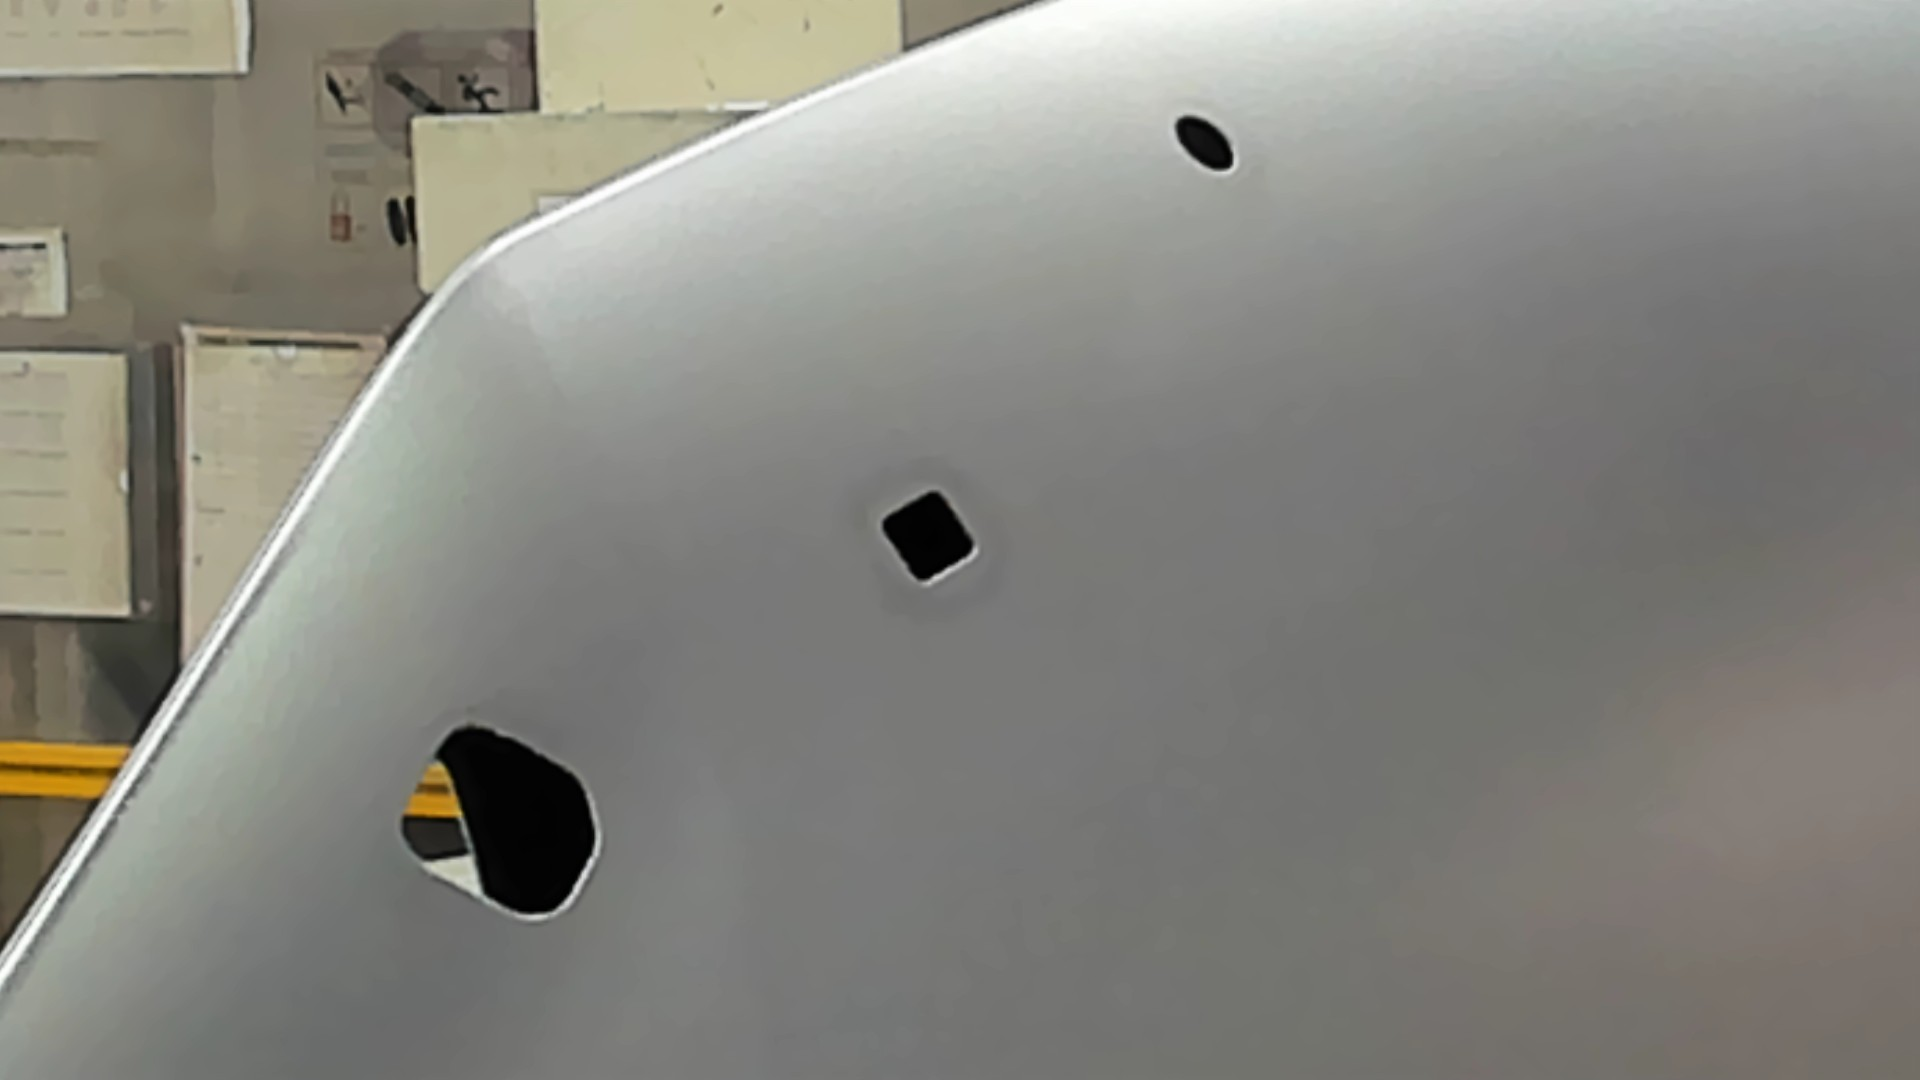chico: (1170, 109, 1237, 175)
grande: (392, 720, 605, 924)
mediano: (876, 487, 984, 591)
